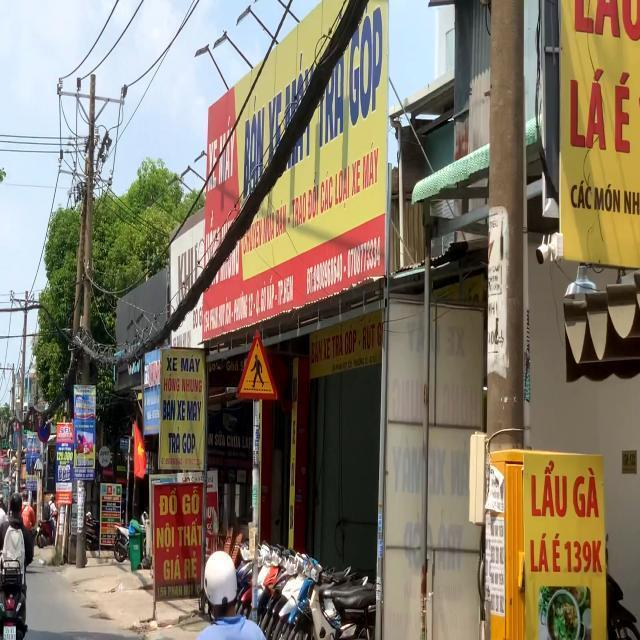224-duong-nguoi-di-bo-cat-ngang: (236, 330, 279, 400)
